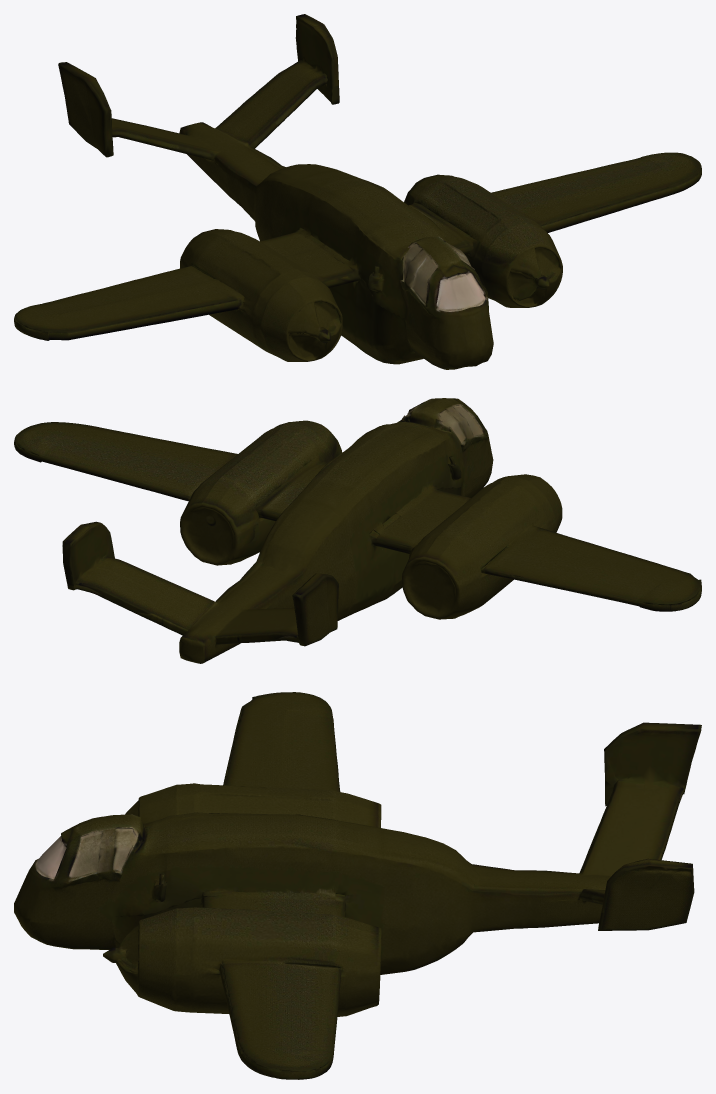
The model's file is airplane_3d_model.fbx.
3 views of the same model, one above another, from view 1: azimuth 30°, elevation 25°; view 2: azimuth 150°, elevation 25°; view 3: azimuth 270°, elevation 25° (orthographic). The views are drawn at different scales.
Parts seen in each view (by area): view 1: tripo_node_e5aa8991; view 2: tripo_node_e5aa8991; view 3: tripo_node_e5aa8991.
Boxes of the visible parts, <box> form: tripo_node_e5aa8991: <box>14,14,701,369</box>; tripo_node_e5aa8991: <box>14,398,701,663</box>; tripo_node_e5aa8991: <box>14,692,701,1079</box>.
Size of the model in its own units: 0.9787 by 0.2202 by 0.7497.
